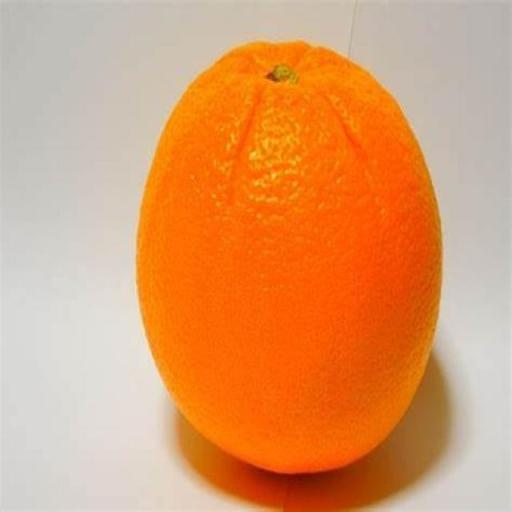fruit: (138, 43, 441, 472)
